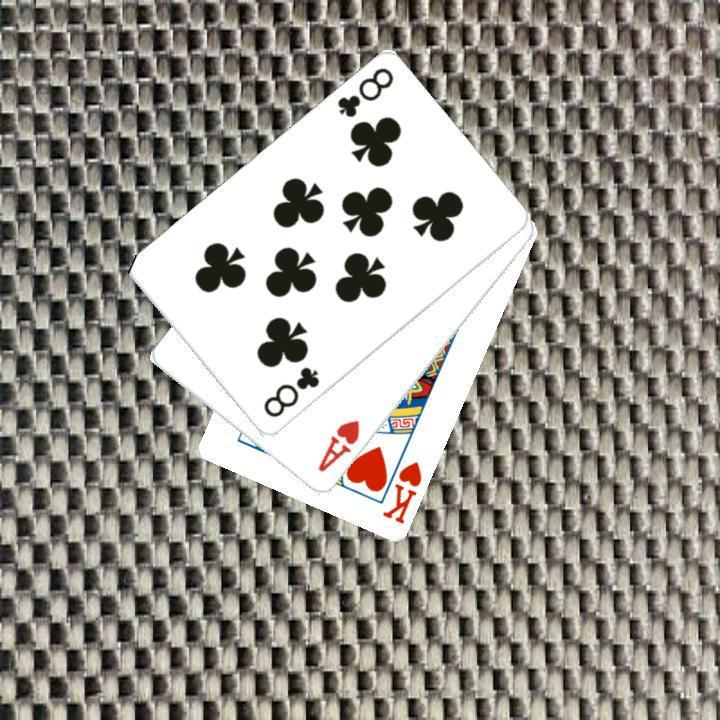8: (258, 362, 322, 420), (332, 63, 396, 121)
A: (313, 415, 362, 475)
K: (378, 457, 424, 527)
